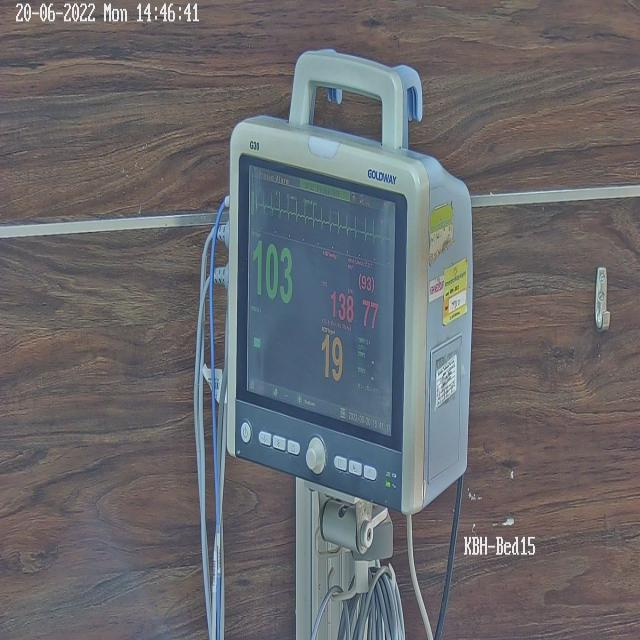Monitor: (208, 46, 477, 638)
